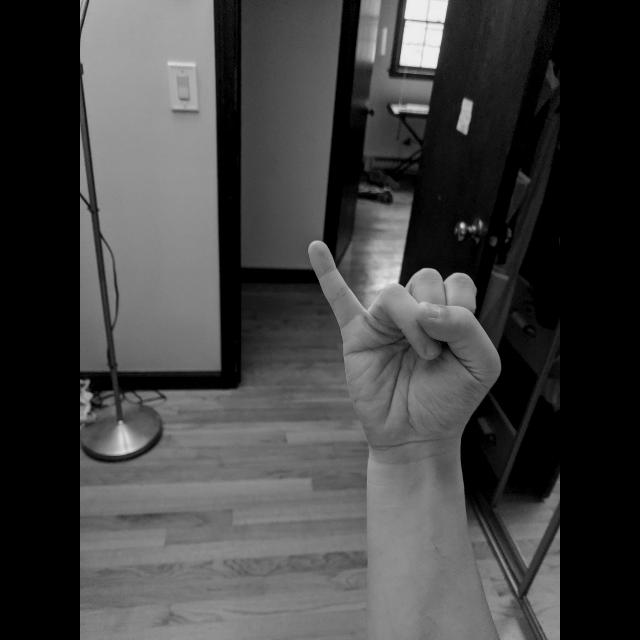I: (303, 234, 505, 451)
